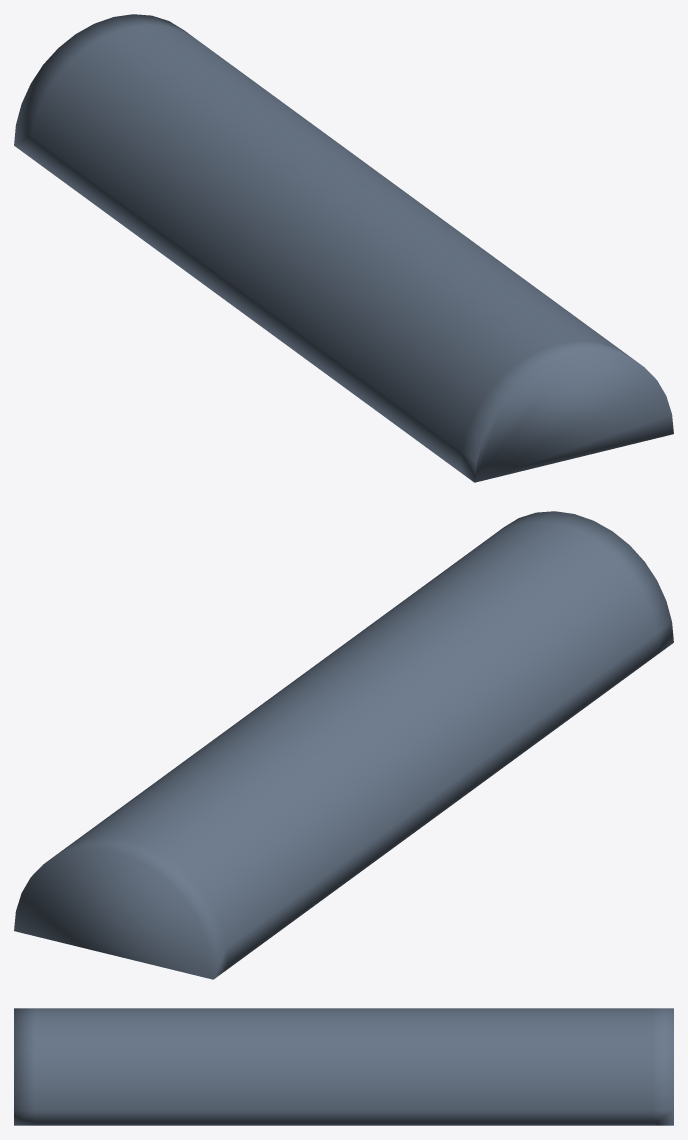
The model's file is cave1.glb.
3 views of the same model, one above another, from view 1: azimuth 30°, elevation 25°; view 2: azimuth 150°, elevation 25°; view 3: azimuth 270°, elevation 25° (orthographic). The views are drawn at different scales.
Visible parts, largest first — view 1: Cylinder; view 2: Cylinder; view 3: Cylinder.
Boxes of the visible parts, x1,y1,x2,y2 form: Cylinder: (14, 14, 673, 482); Cylinder: (14, 511, 673, 979); Cylinder: (14, 1008, 673, 1125).
Bounding box in the file's own units: 10 × 5.04 × 40.
